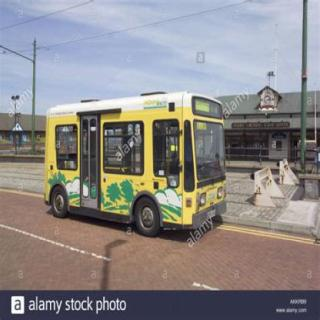Normal_vehicle: (39, 83, 242, 244)
